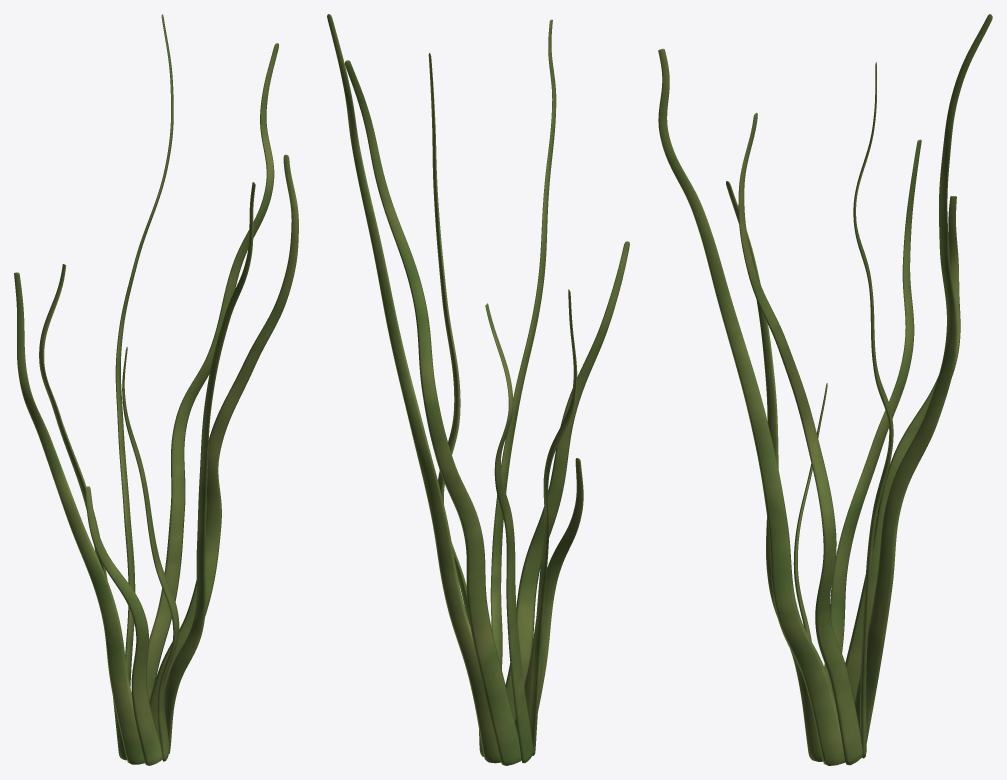
Rendered from seaweedVG.fbx.
3 views of the same model, side by side, from view 1: azimuth 30°, elevation 25°; view 2: azimuth 150°, elevation 25°; view 3: azimuth 270°, elevation 25° (orthographic). The views are drawn at different scales.
Parts seen in each view (by area): view 1: Cube; view 2: Cube; view 3: Cube.
Boxes of the visible parts, x1,y1,x2,y2 form: Cube: [14, 14, 298, 765]; Cube: [327, 14, 629, 765]; Cube: [658, 14, 992, 765].
Bounding box in the file's own units: 36.97 × 96.27 × 37.04.
